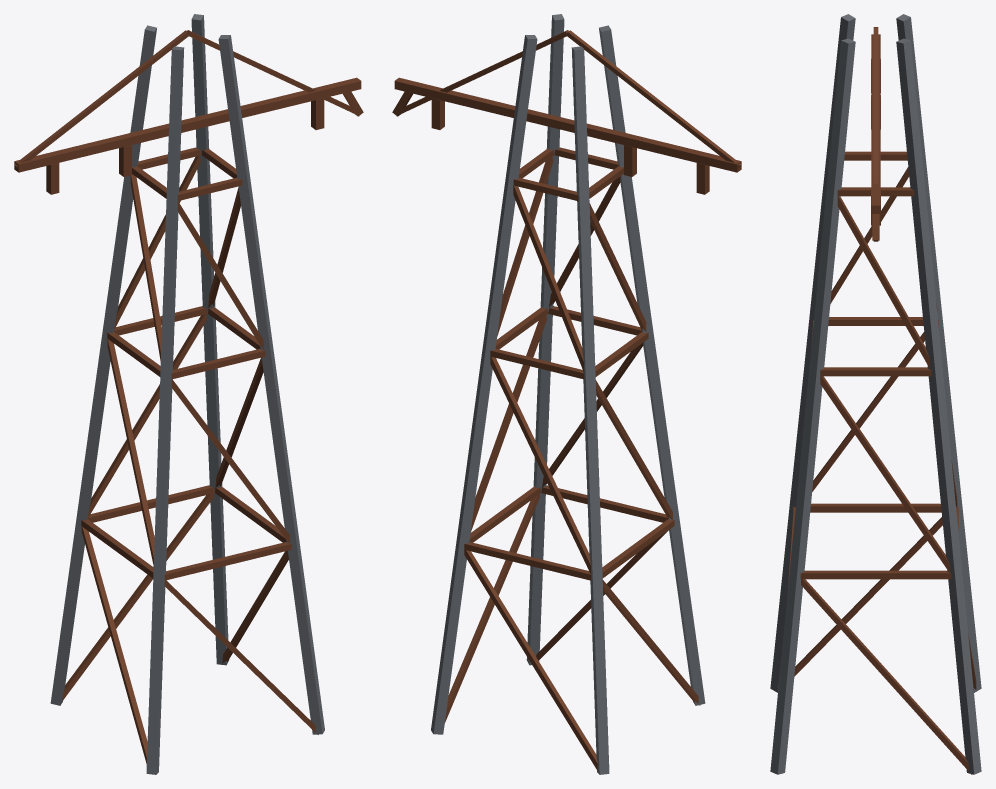
File: pylon.glb
3 views of the same model, side by side, from view 1: azimuth 30°, elevation 25°; view 2: azimuth 150°, elevation 25°; view 3: azimuth 270°, elevation 25° (orthographic). The views are drawn at different scales.
Visible parts, largest first — view 1: PylonLegs, PylonBracing; view 2: PylonLegs, PylonBracing; view 3: PylonLegs, PylonBracing.
Part boxes in pixels (x1,y1,x2,y2): PylonLegs: (50,14,324,774); PylonBracing: (14,30,363,763); PylonLegs: (431,14,705,774); PylonBracing: (392,30,741,770); PylonLegs: (770,14,981,774); PylonBracing: (787,27,976,774).
Size of the model in its own units: 6.67 by 12.66 by 3.44.
